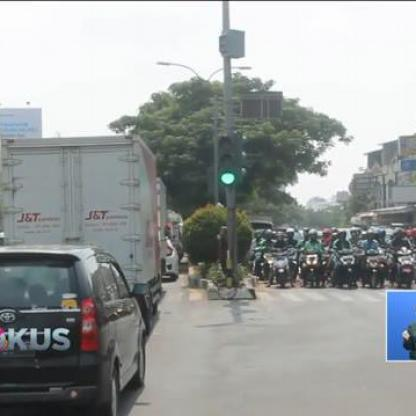green: (218, 136, 238, 188)
